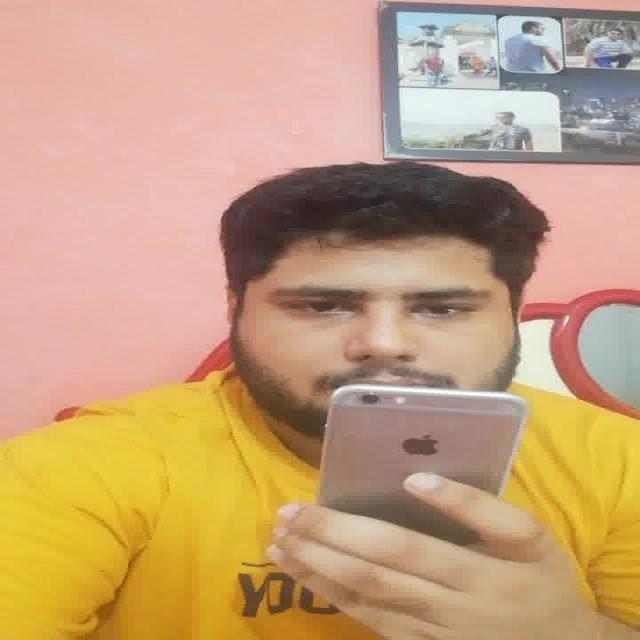Phone: (321, 379, 531, 526)
